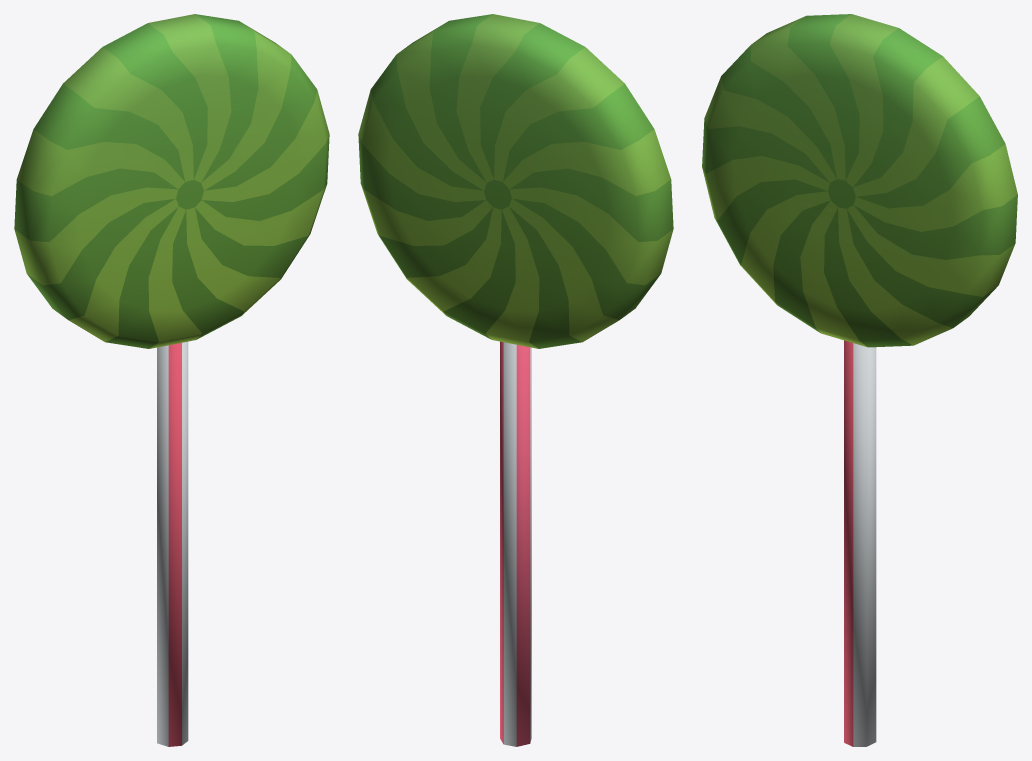
File: lollipop_002.fbx
3 renders of one model, left to right at view 1: azimuth 30°, elevation 25°; view 2: azimuth 150°, elevation 25°; view 3: azimuth 330°, elevation 25°, orthographic.
Parts seen in each view (by area): view 1: lollipop_002; view 2: lollipop_002; view 3: lollipop_002.
Boxes of the visible parts, x1=… form: lollipop_002: x1=14, y1=14, x2=329, y2=746; lollipop_002: x1=358, y1=14, x2=673, y2=746; lollipop_002: x1=702, y1=14, x2=1017, y2=746.
Size of the model in its own units: 6.33 by 1.32 by 14.46.
